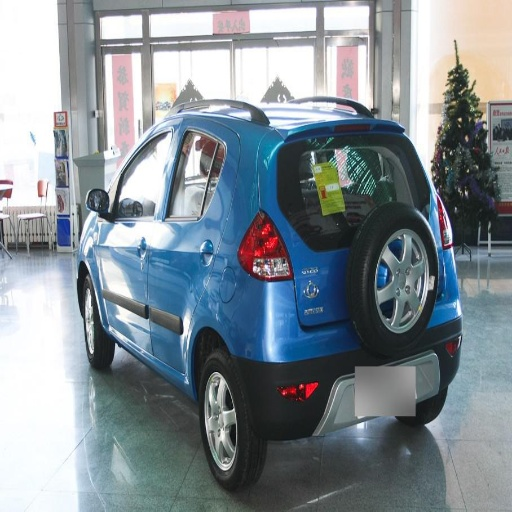back_bumper: (224, 277, 363, 438), (430, 294, 463, 342)
back_glass: (298, 133, 390, 175)
back_left_door: (148, 120, 221, 368)
trunk: (283, 199, 362, 328)
